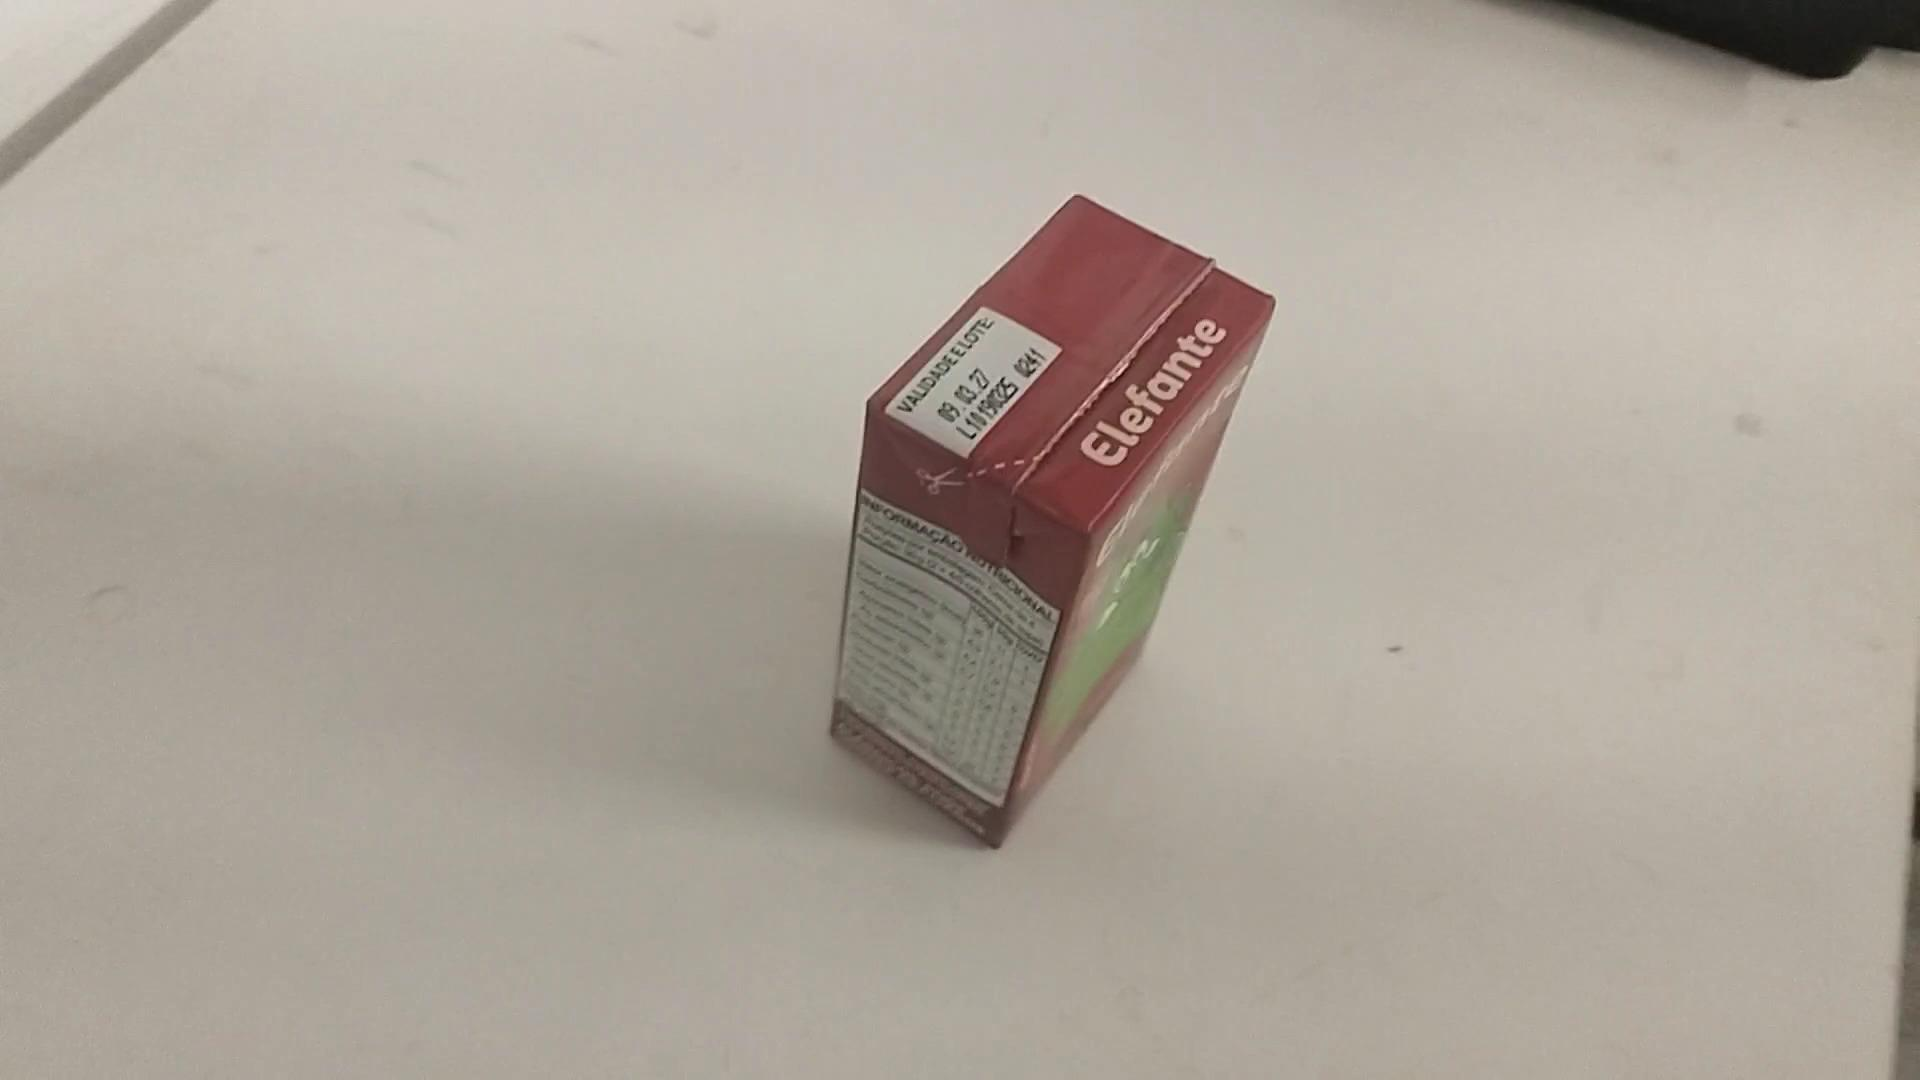tomate: (814, 177, 1287, 852)
